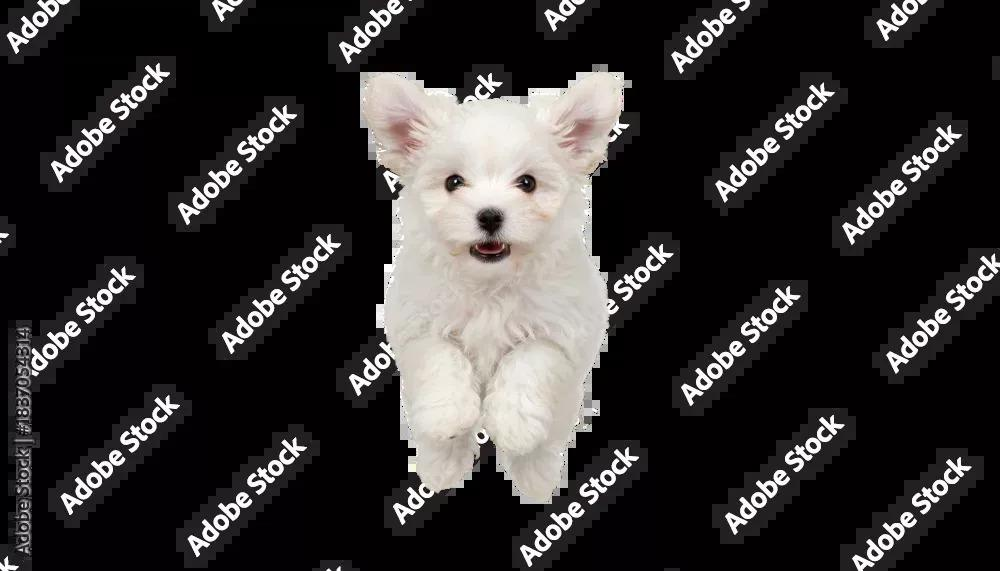puppy-dog: (359, 68, 627, 499)
